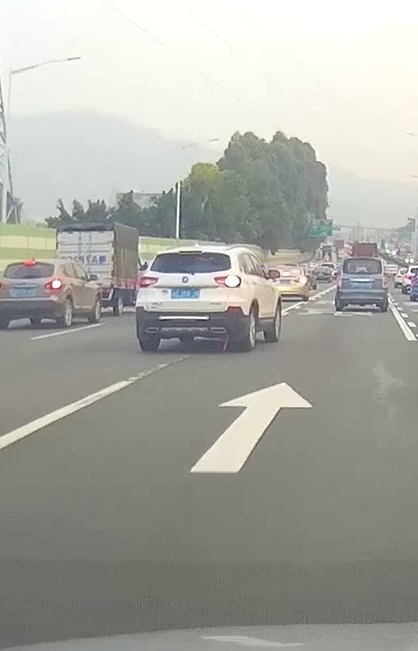L_light: (138, 276, 159, 288), (337, 279, 342, 287)
R_light: (214, 276, 241, 288), (383, 278, 386, 288)
T_light: (180, 251, 201, 254), (359, 259, 367, 260)
day-no: (336, 257, 387, 312)
day-right: (136, 248, 242, 351)
